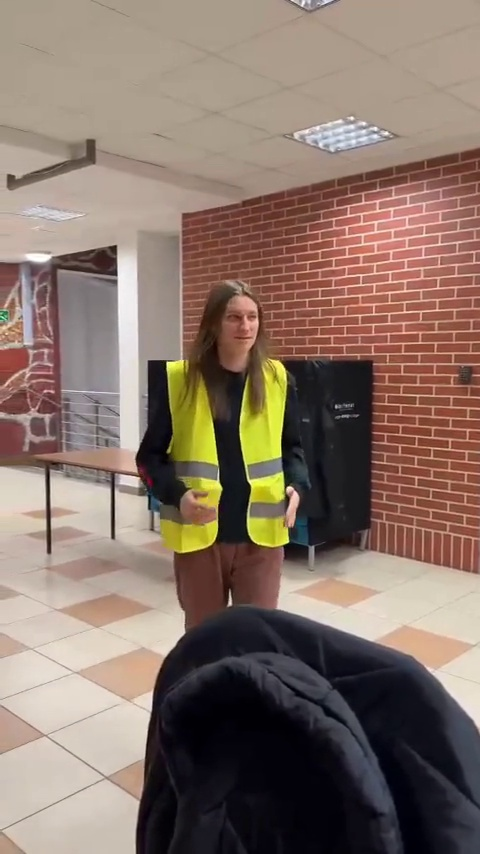vest: (139, 279, 307, 621)
